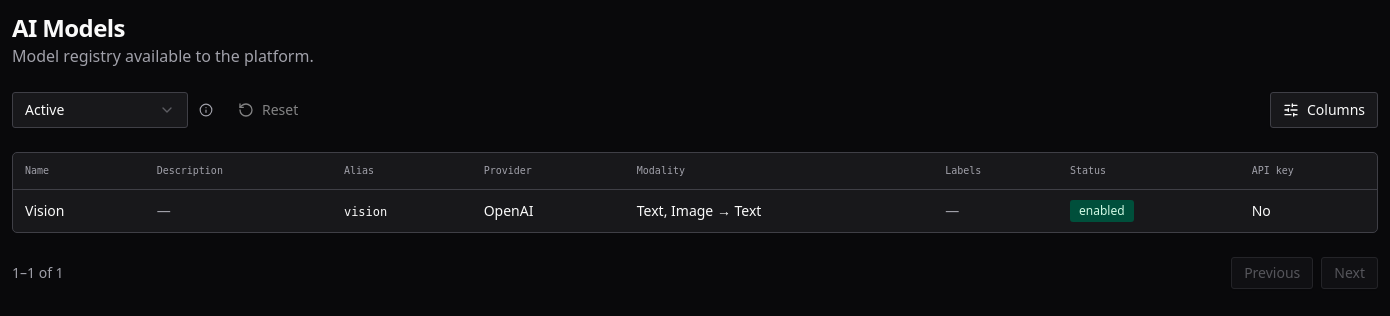
Test case: AiModelsListPage — deleted view › selecting "Recently deleted" asks the server for tombstones
The width and height of the screenshot is (1390, 316).
Expected: the text "Vision" is shown, [25, 200, 64, 220]
Click the dropdown named "model rows": (100,110) [12, 92, 188, 128]
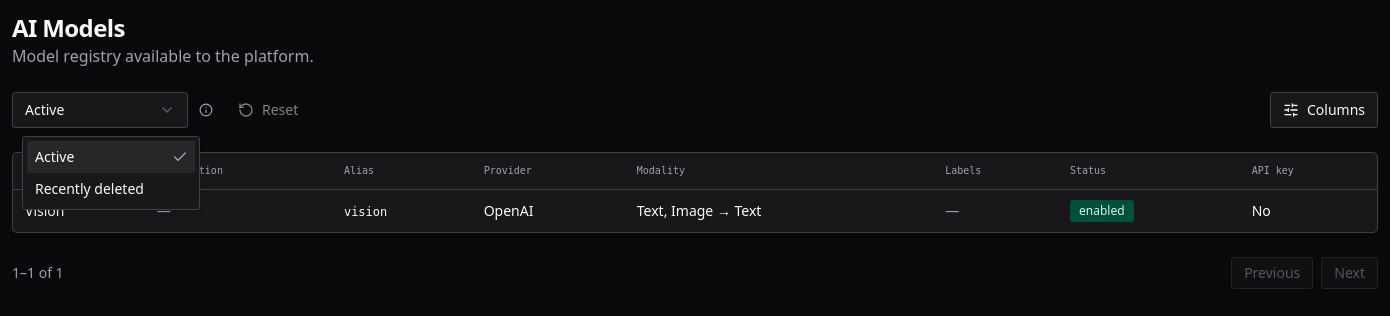
Click the option "Recently deleted": (89,188) [35, 179, 144, 198]
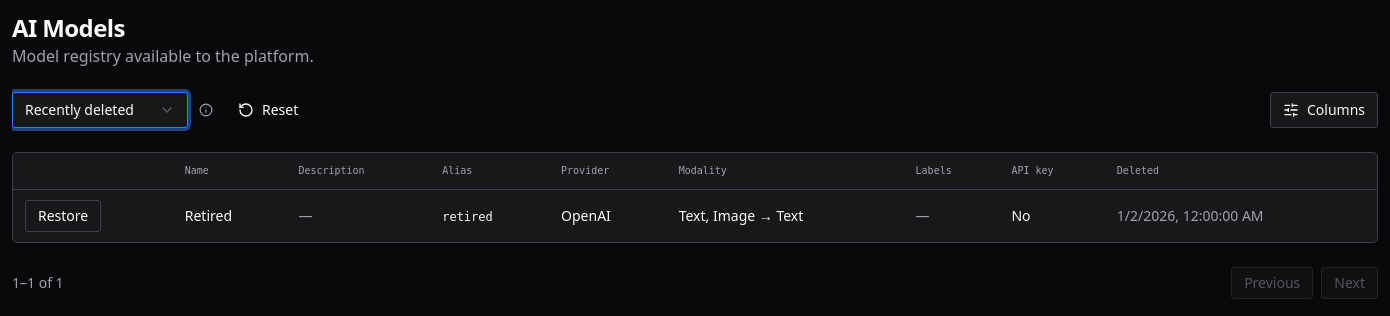
Result: the text "Retired" is shown at [185, 206, 232, 224]
